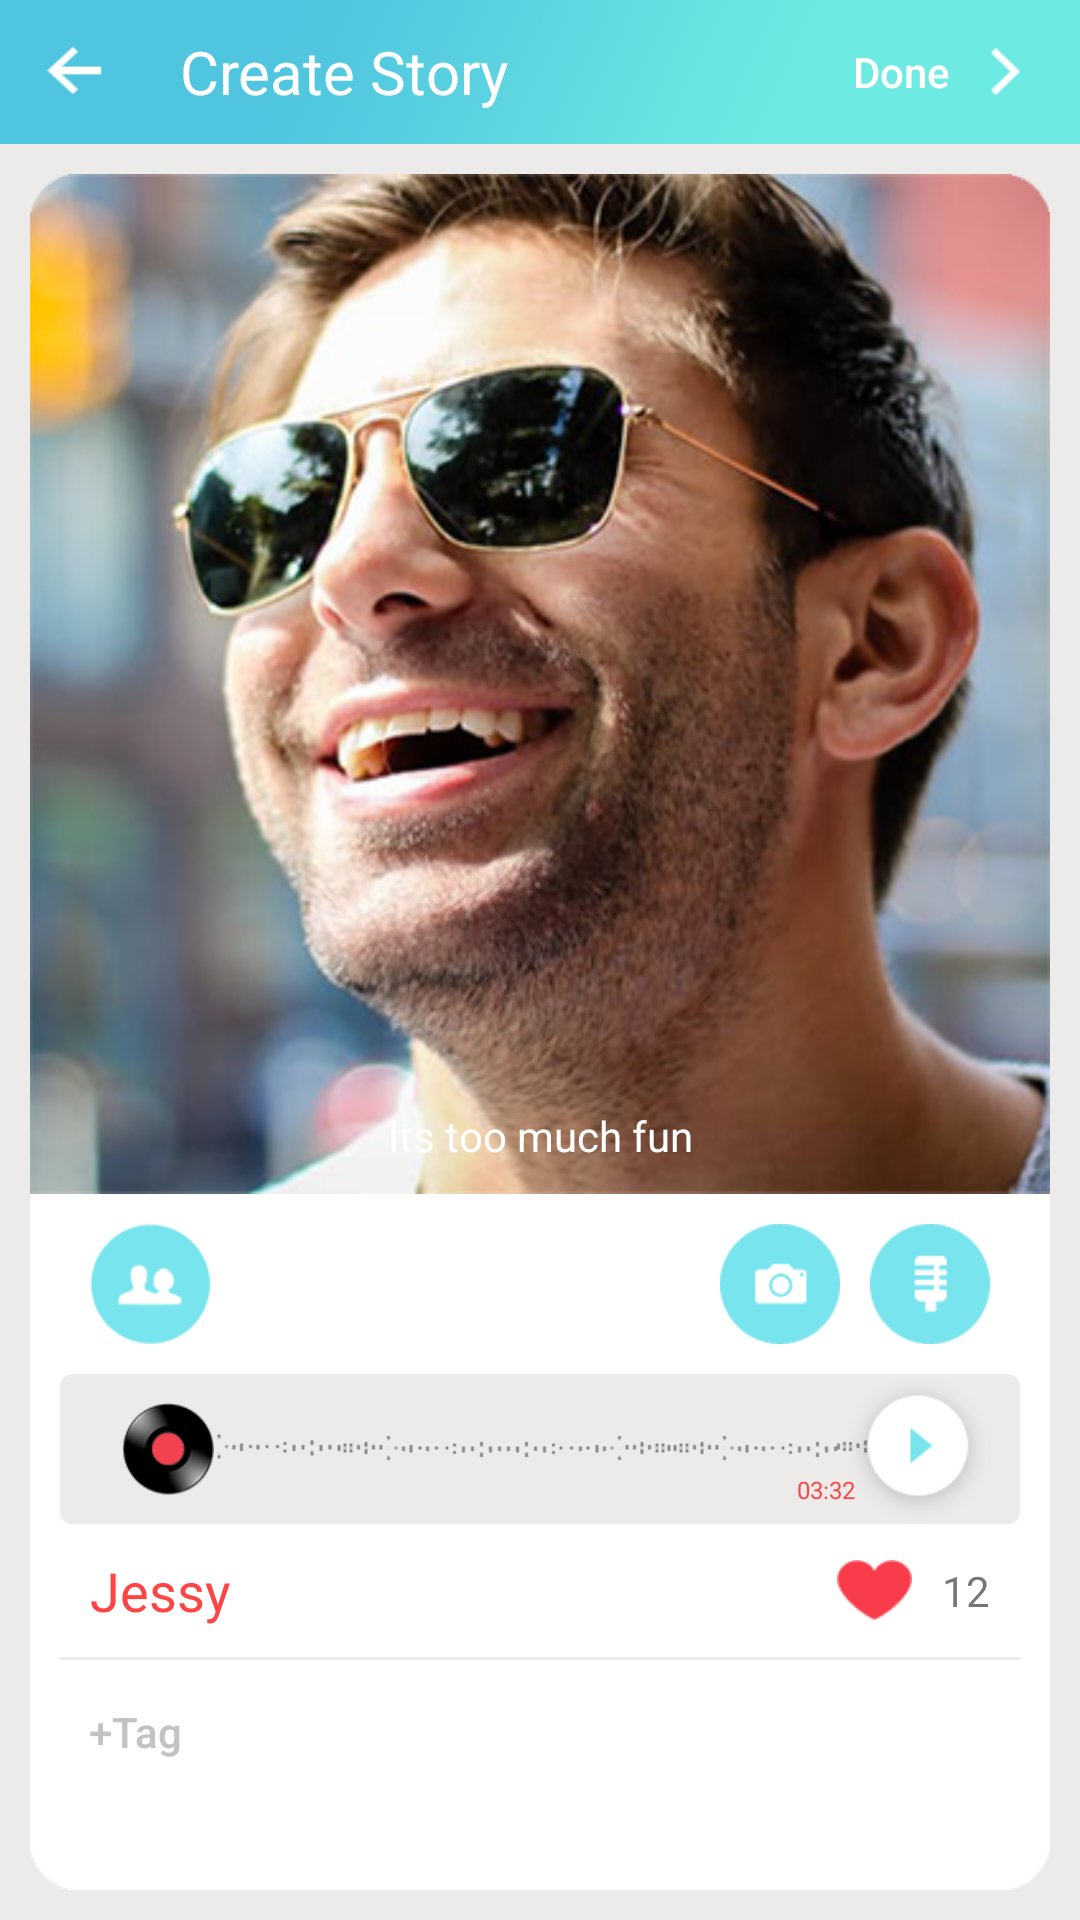

Named icons in this screenshot (1080x1920) and their bounding boxes, BBox(x1, y1, x2, y2):
arrow: BBox(991, 48, 1020, 95)
back but: BBox(47, 47, 102, 94)
friend but: BBox(91, 1224, 210, 1344)
heart: BBox(837, 1560, 912, 1620)
mic but: BBox(870, 1224, 990, 1344)
play but: BBox(846, 1389, 978, 1509)
takephoto but: BBox(720, 1224, 840, 1344)
